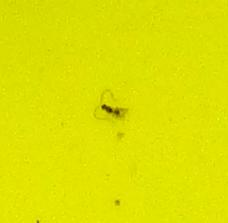Hymenoptera: (100, 100, 128, 123)
